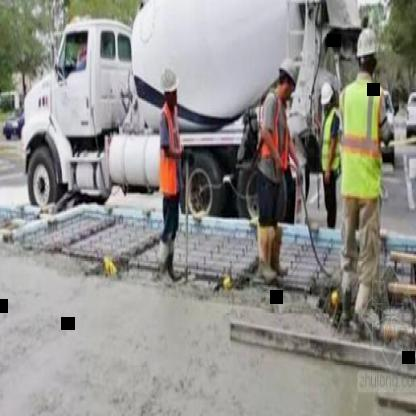helmet: (355, 22, 381, 78), (274, 53, 298, 107), (160, 66, 182, 108), (318, 79, 338, 122)
